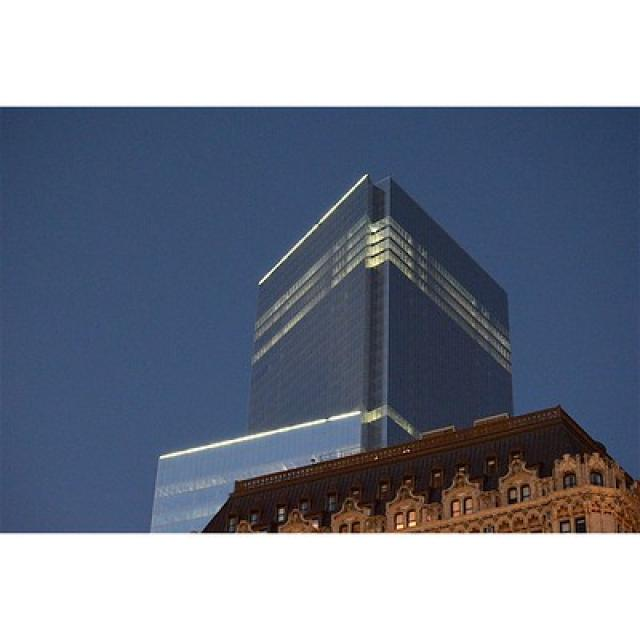building: (244, 162, 518, 530)
